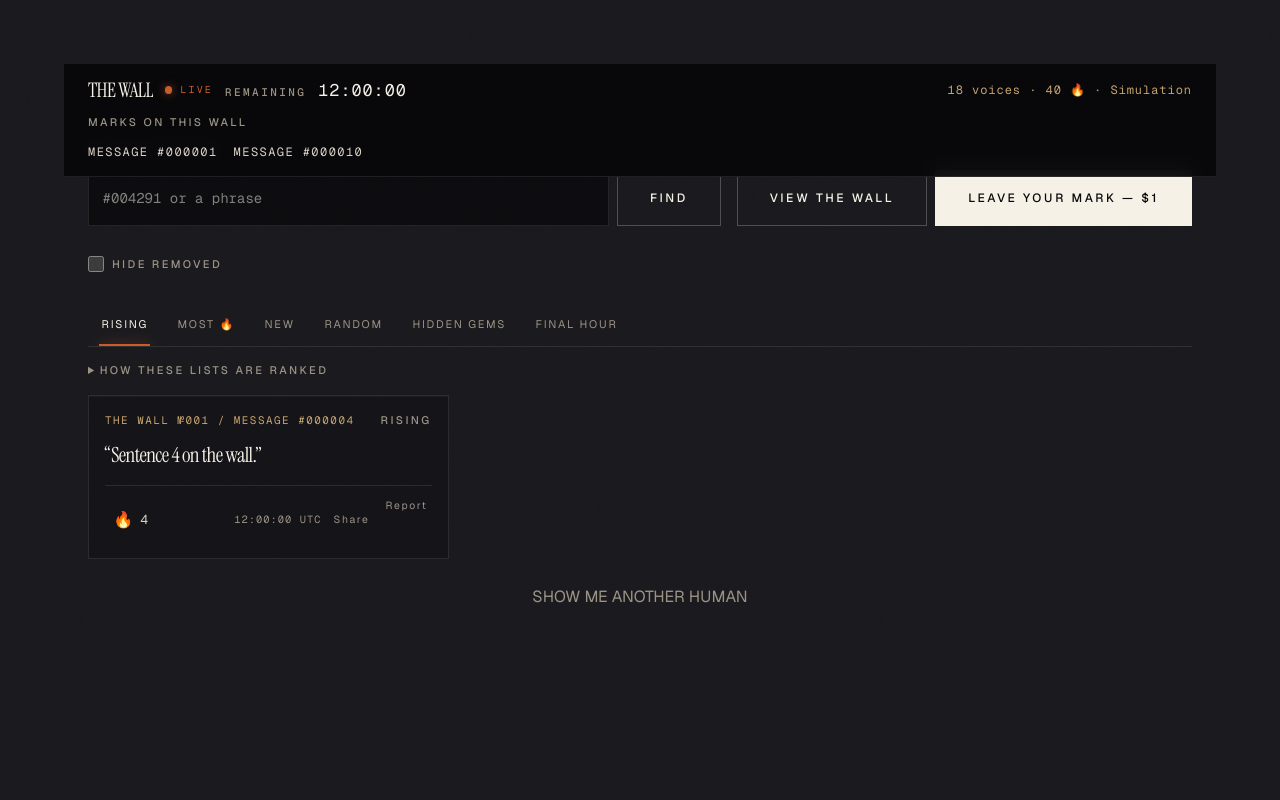
Test: live wall › searches by public number and recovers from a miss
In the field with placeholder "#004291 or a phrase": (348, 198) [88,170,609,226], type "#000099"
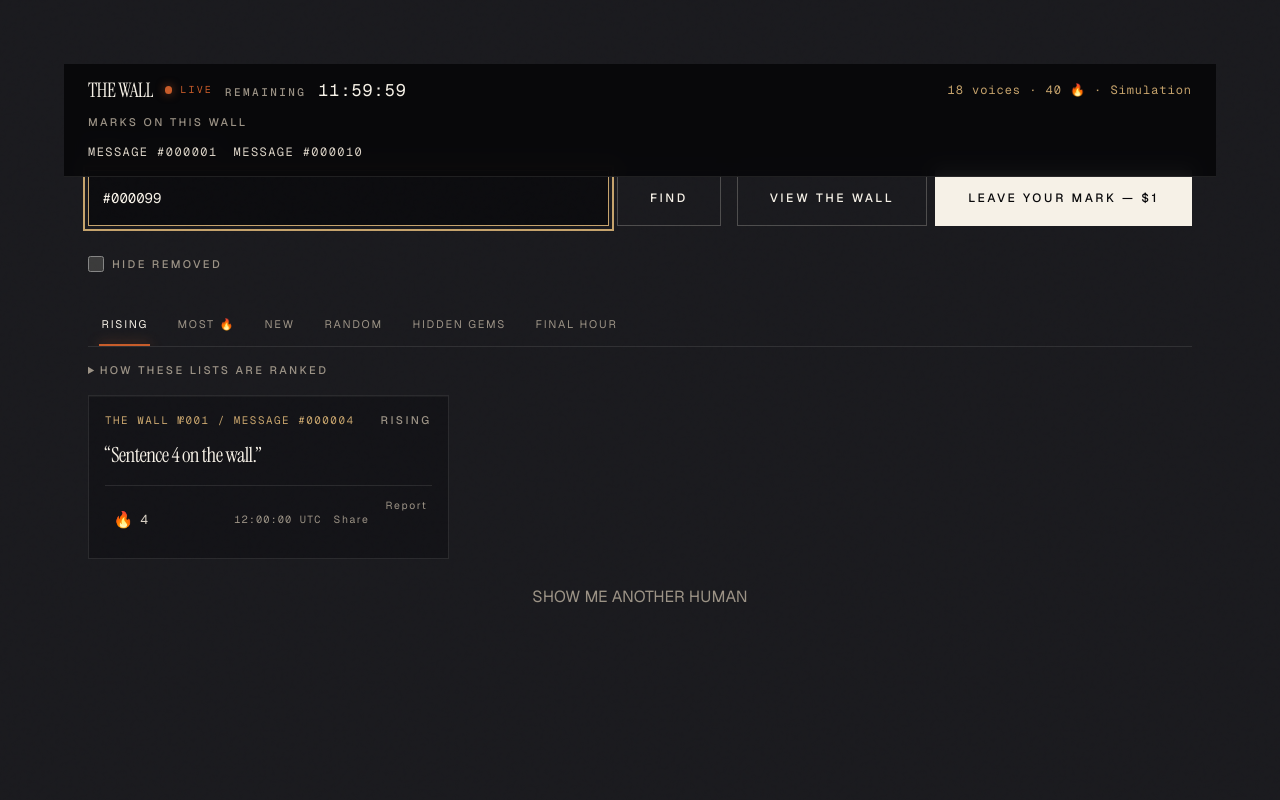
Click the button "Find": (669, 198) [617,170,721,226]
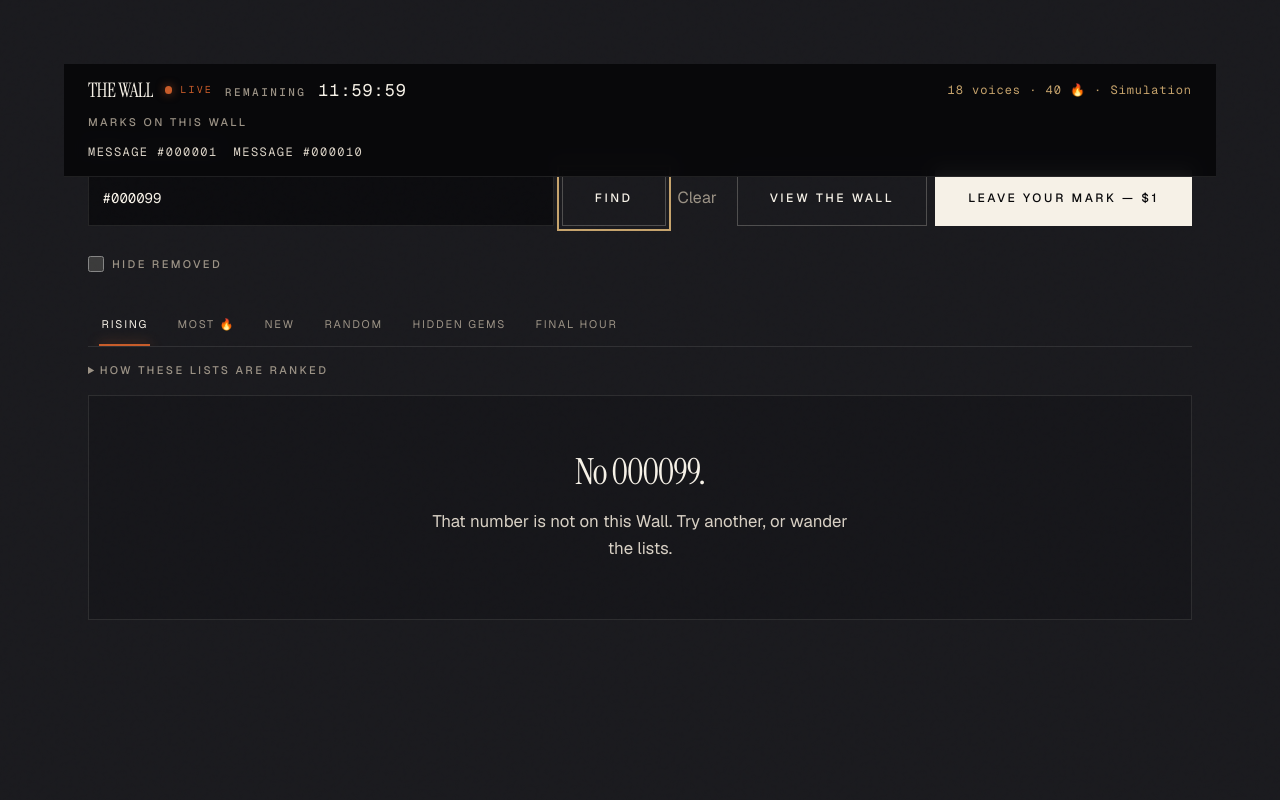
Result: the text "No 000099." is shown at [575,448,705,495]
Click the button "Clear": (697, 198) [674,170,721,226]
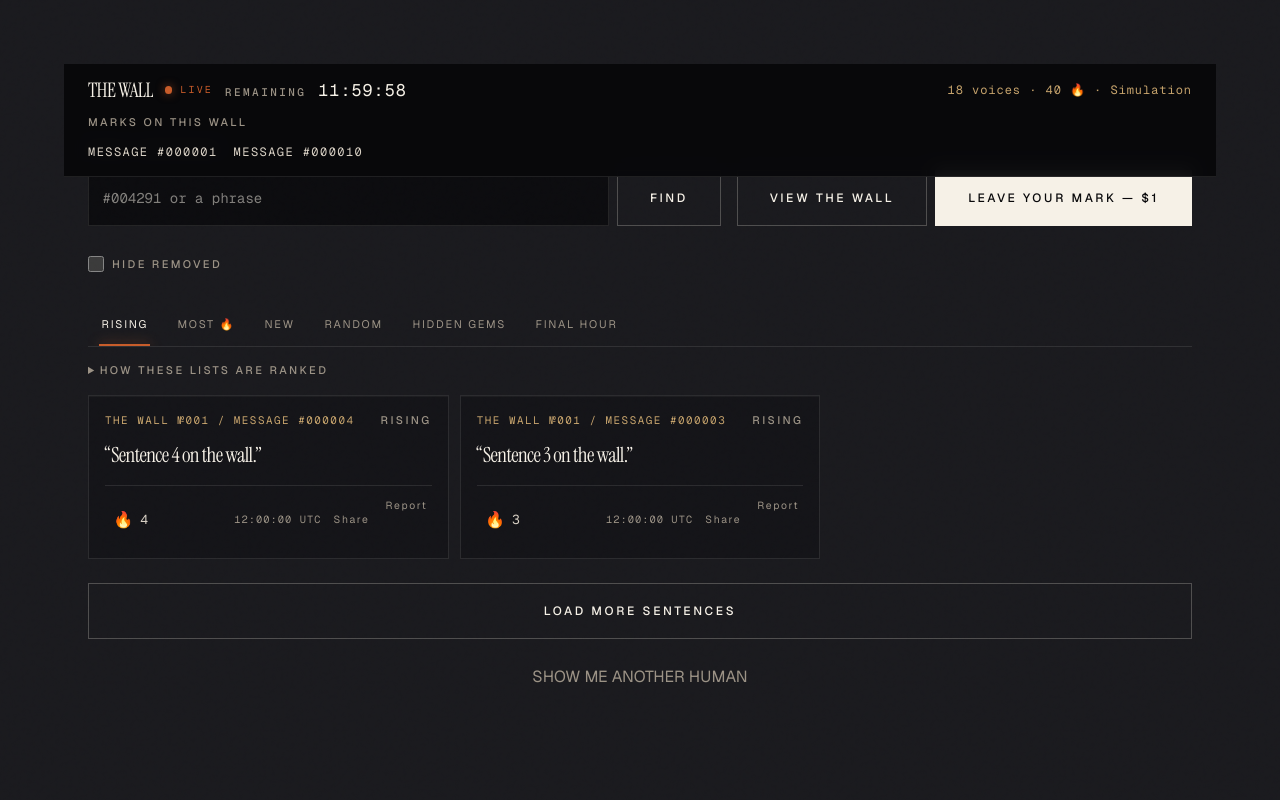
Result: the text "“Sentence 4 on the wall.”" is shown at [105,441,261,468]
